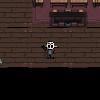Hide: (46, 8, 88, 27)
Jason: (40, 38, 58, 60)
